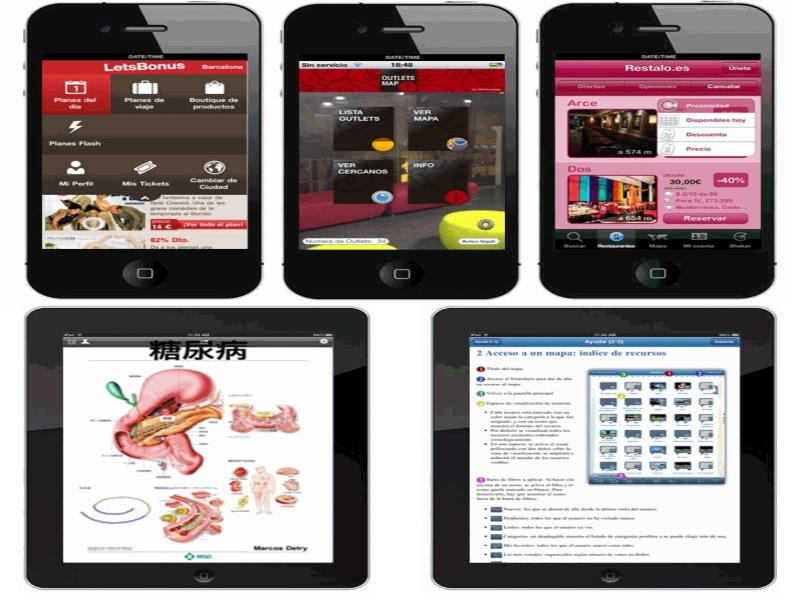cellphone: (19, 303, 372, 596), (428, 307, 777, 591), (16, 1, 265, 300), (277, 1, 522, 303), (537, 1, 778, 303)
